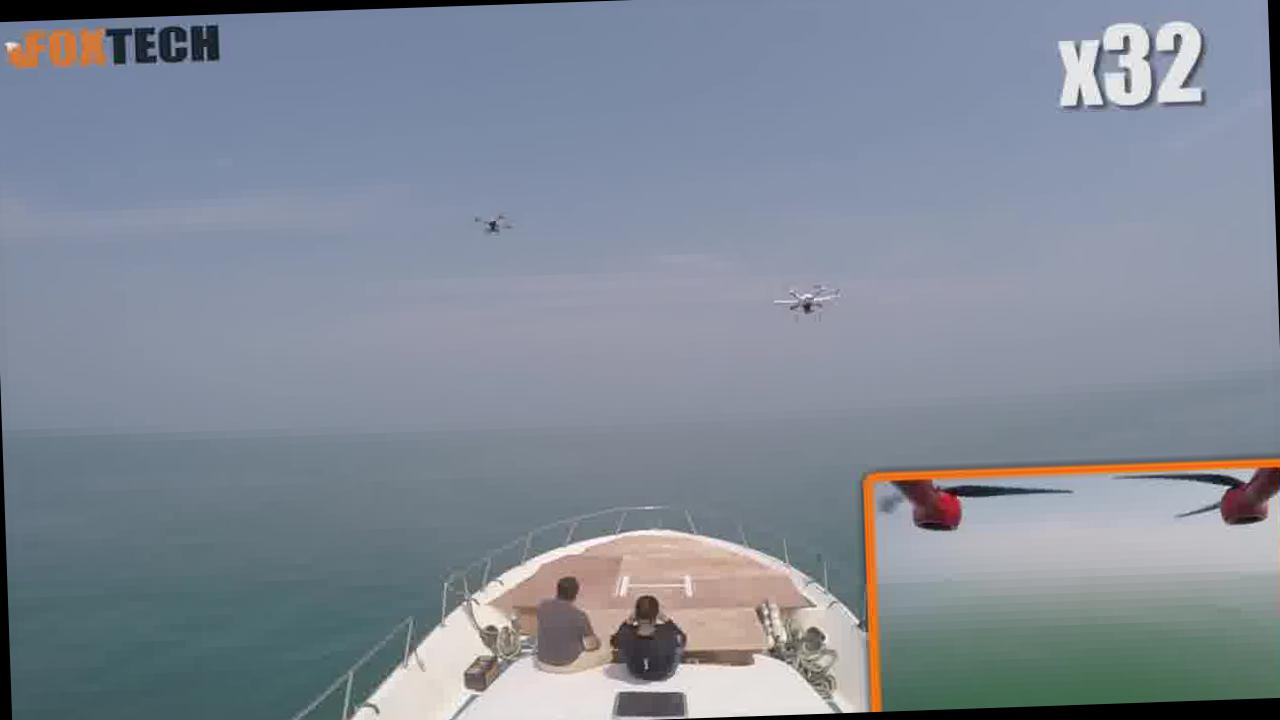drone: (761, 274, 852, 330), (456, 198, 528, 243)
